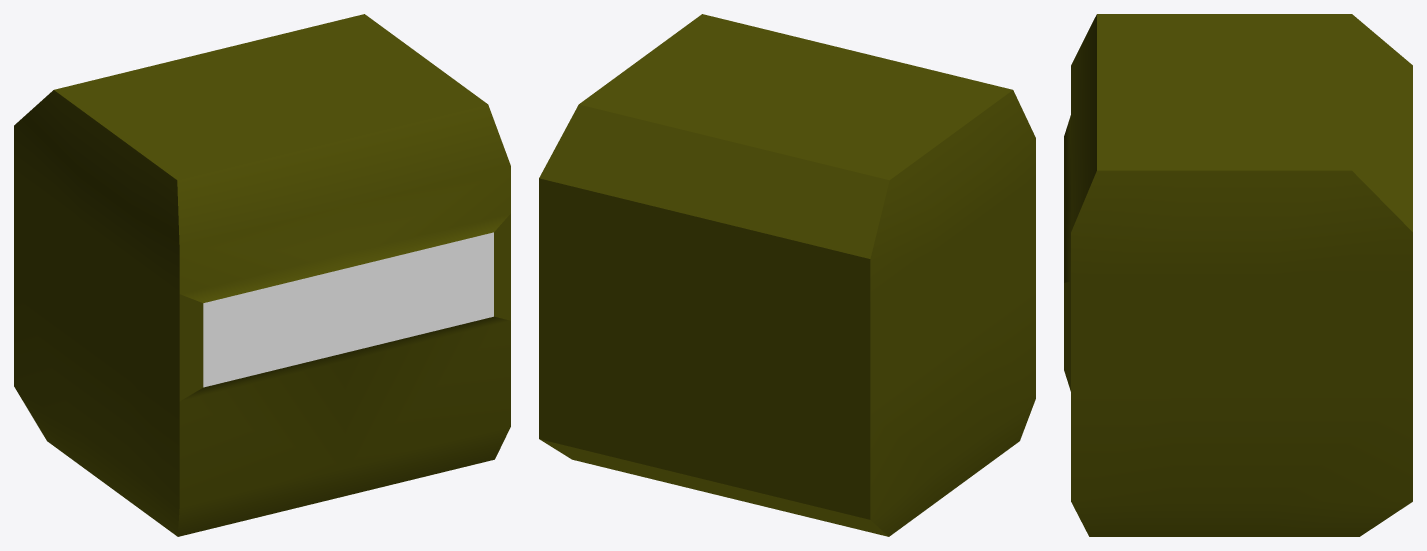
The model's file is head.obj.
The picture shows the model from 3 angles, left to right: view 1: azimuth 30°, elevation 25°; view 2: azimuth 150°, elevation 25°; view 3: azimuth 270°, elevation 25°; orthographic projection. The views are drawn at different scales.
Parts seen in each view (by area): view 1: 1_Head_Cube.015; view 2: 1_Head_Cube.015; view 3: 1_Head_Cube.015.
Boxes of the visible parts, bbox=[...] form: 1_Head_Cube.015: bbox=[14, 14, 510, 536]; 1_Head_Cube.015: bbox=[539, 14, 1035, 536]; 1_Head_Cube.015: bbox=[1064, 14, 1412, 536].
Size of the model in its own units: 1.36 by 1.39 by 1.2.
